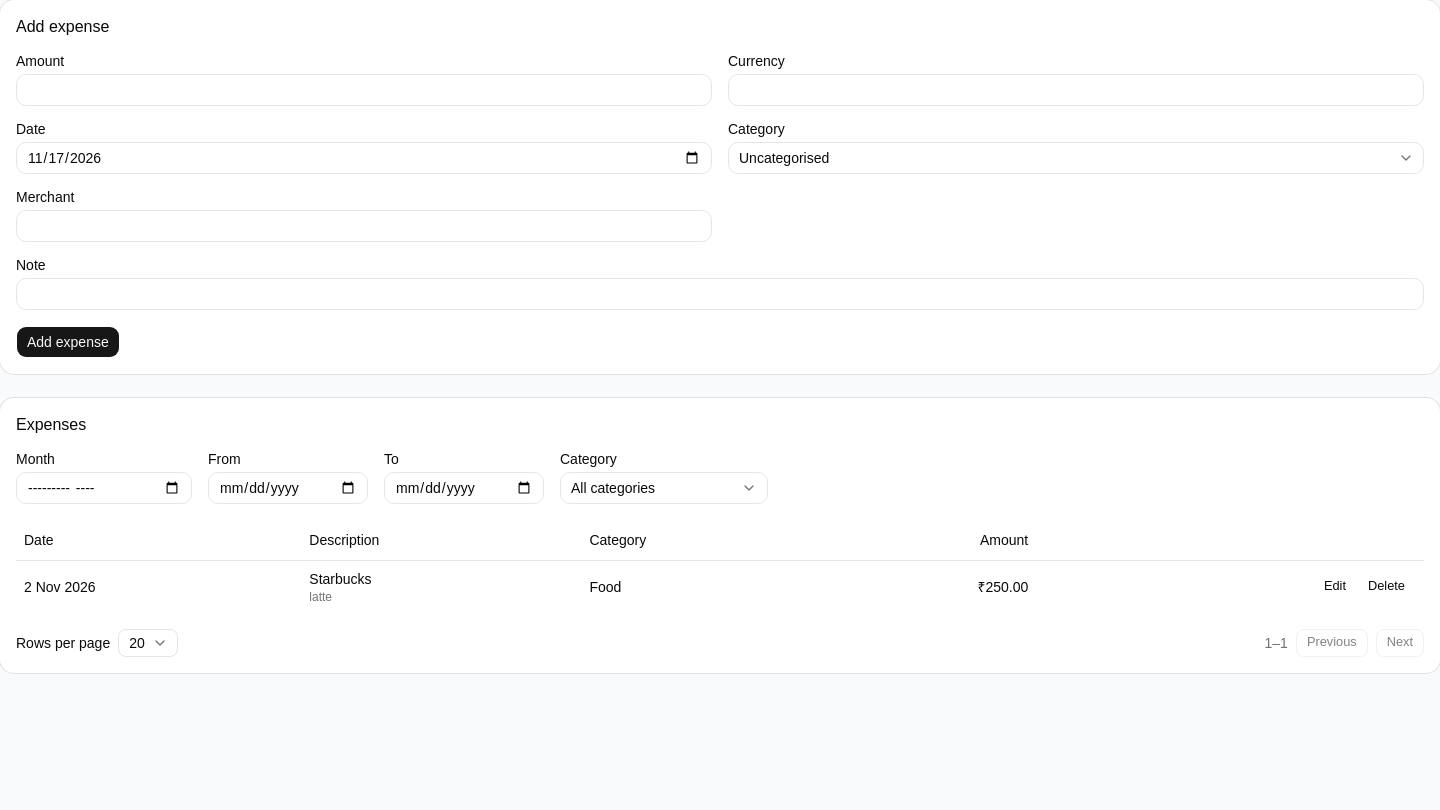
it: Edit opens a dialog filled with the expense and leaves the add form alone
The image size is (1440, 810).
Click the button with aria-label "Edit Starbucks".
click(1335, 586)  # box [1313, 572, 1357, 600]
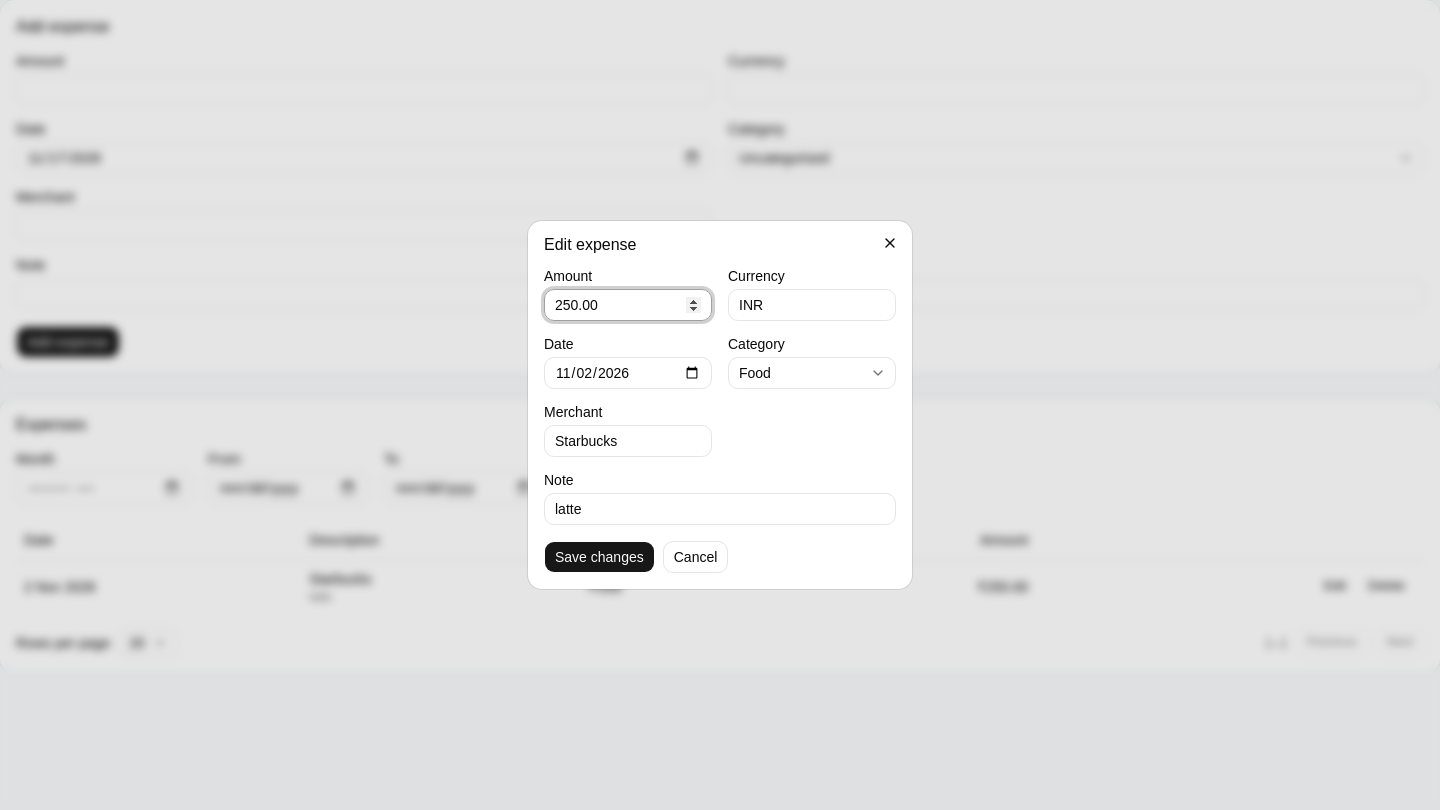
Check: the number field labelled "Amount" holds "250", box [544, 289, 712, 321]
Check: the date field labelled "Date" holds "2026-11-02", box [544, 357, 712, 389]
Check: the field labelled "Merchant" holds "Starbucks", box [544, 425, 712, 457]
